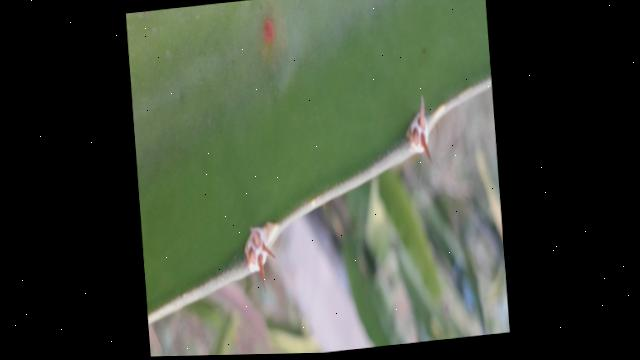stemcanker: (252, 11, 286, 60)
